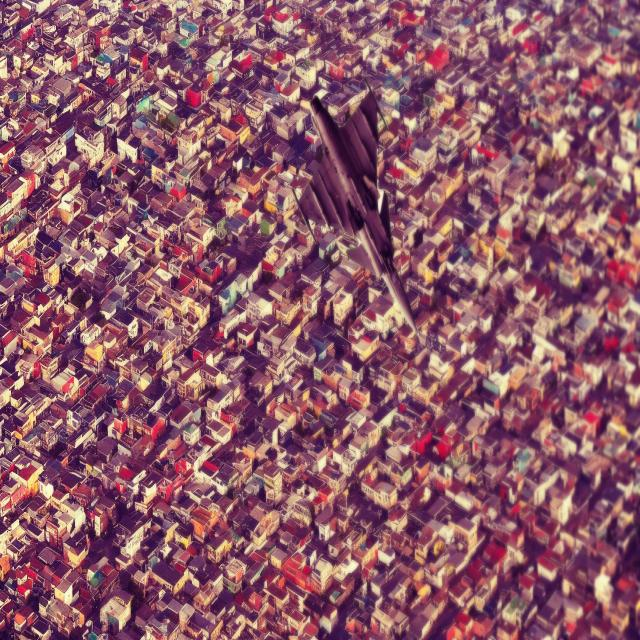airplane: (296, 76, 424, 349)
